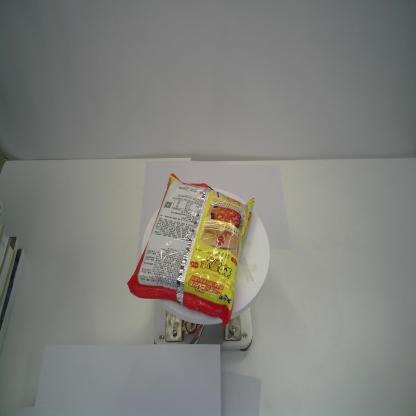Instant Noodles: (126, 172, 256, 326)
